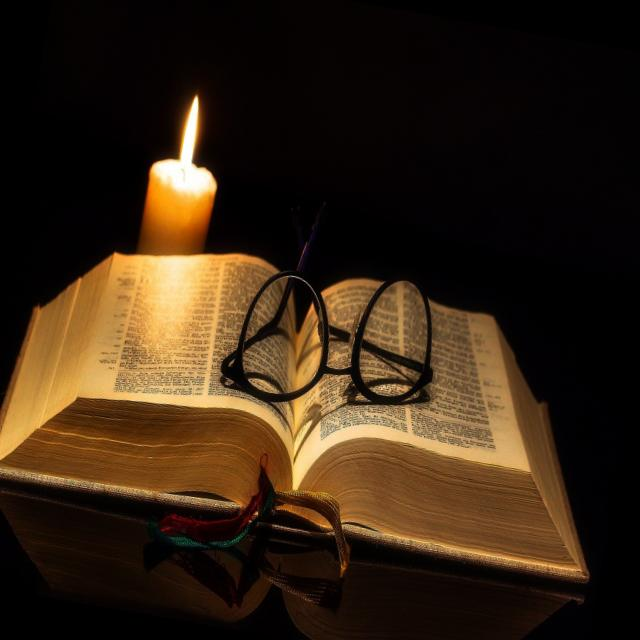Fire_Save: (133, 87, 233, 266)
